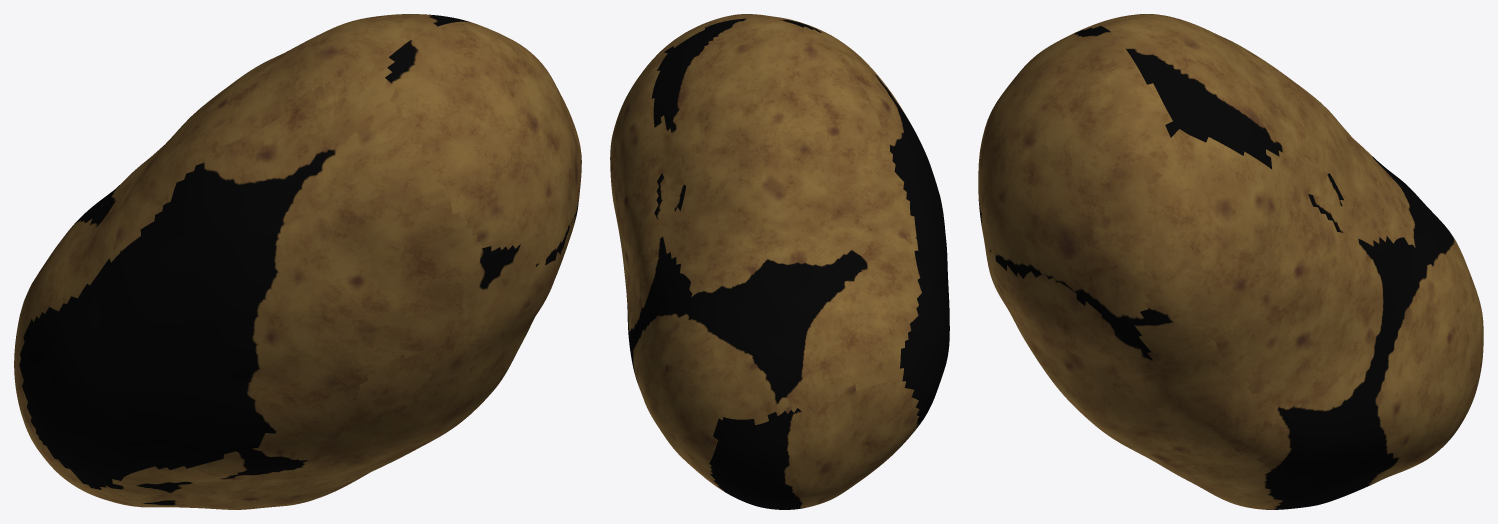
3 renders of one model, left to right at view 1: azimuth 30°, elevation 25°; view 2: azimuth 150°, elevation 25°; view 3: azimuth 270°, elevation 25°, orthographic. The views are drawn at different scales.
Visible parts, largest first — view 1: original_ico.004; view 2: original_ico.004; view 3: original_ico.004.
Boxes of the visible parts, left/top/right/bottom form: original_ico.004: left=14, top=14, right=581, bottom=509; original_ico.004: left=610, top=14, right=949, bottom=509; original_ico.004: left=978, top=14, right=1483, bottom=509.
Bounding box in the file's own units: 3.57 × 3.76 × 3.45.
